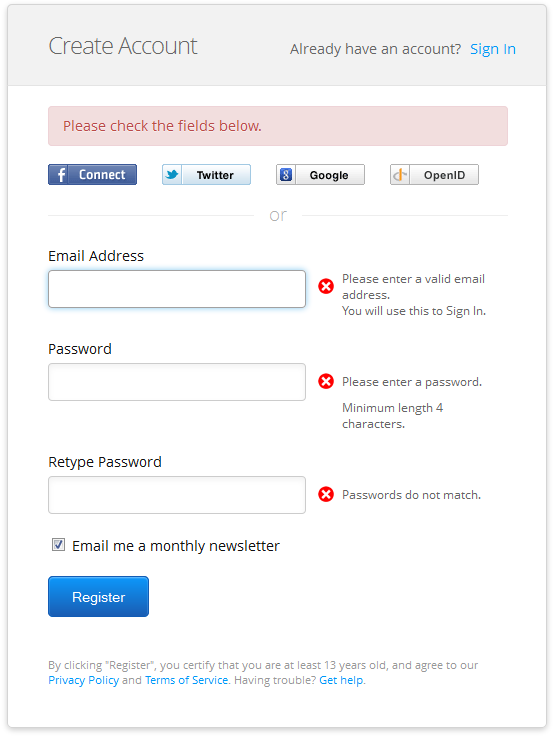error_message: (60, 117, 266, 137)
